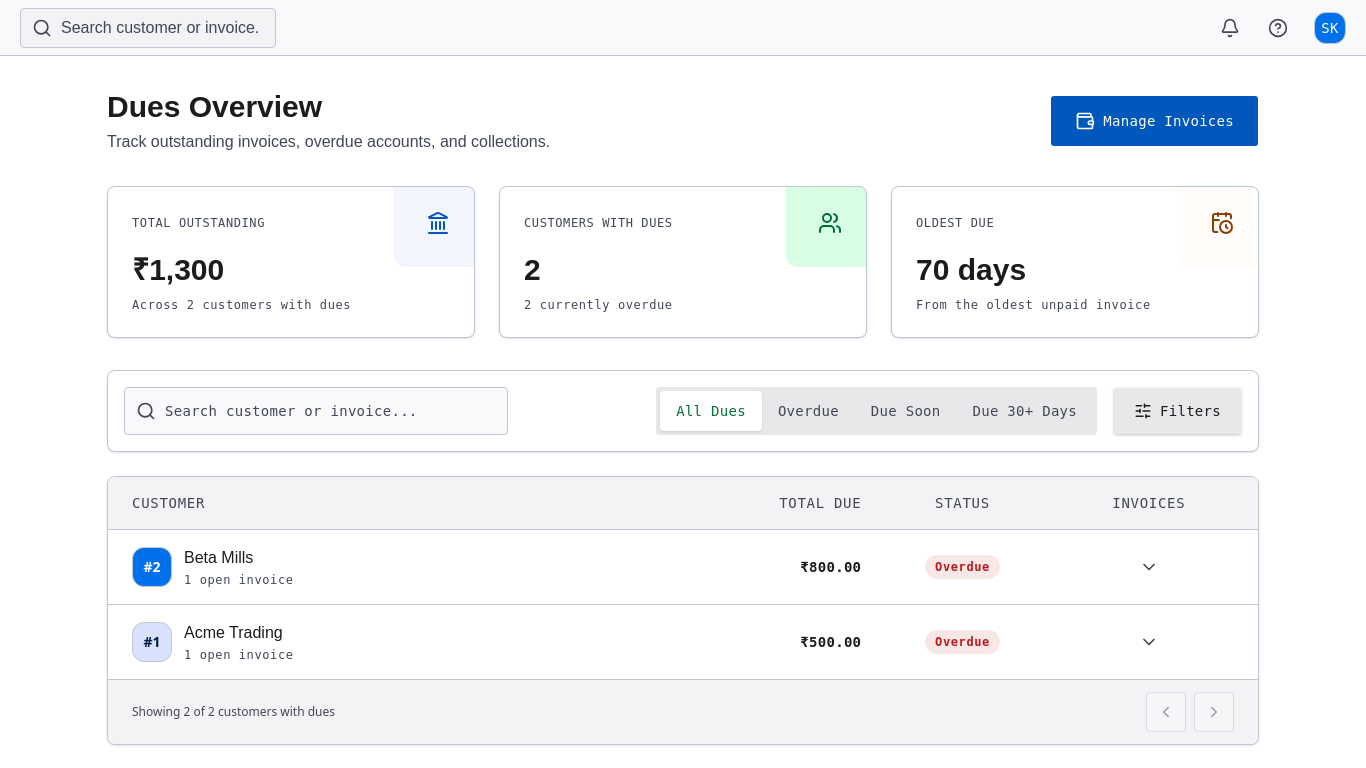
Test: Dues filter sheet — quick views › opens the sheet and shows every quick view preset
Click the button "Filters" at x=1178, y=411, box [1113,387,1242,435]
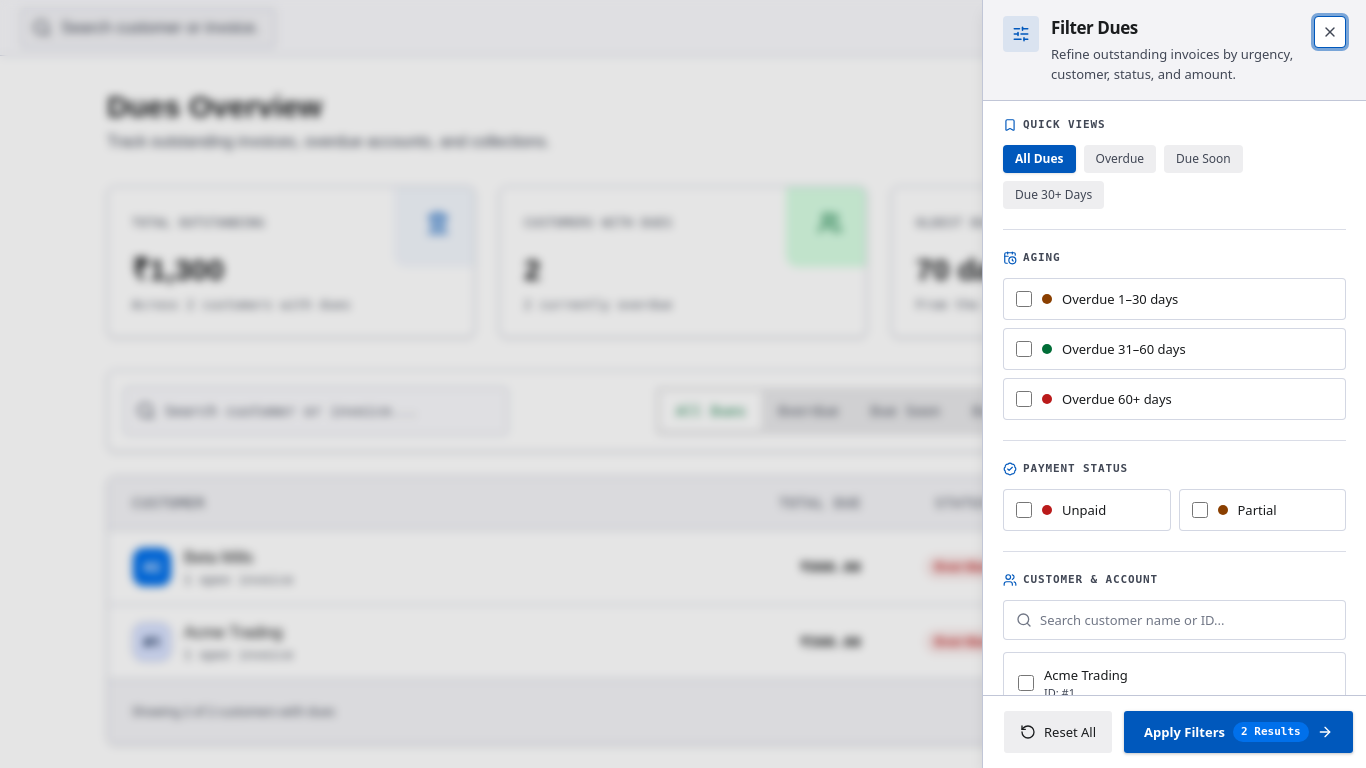
Expected: the heading "Filter Dues" is shown, [1051,16,1138,40]
Expected: the button "All Dues" is shown, [1003,145,1076,173]
Expected: the button "Overdue" is shown, [1084,145,1156,173]
